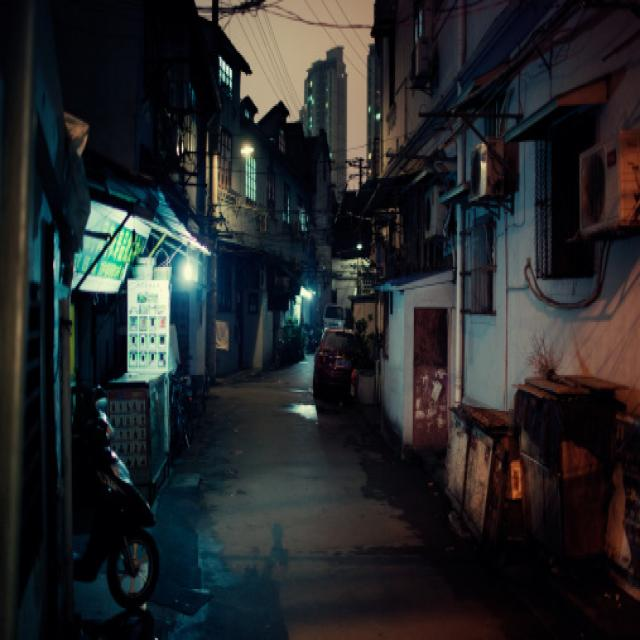Motorbike: (46, 378, 177, 638)
car: (307, 317, 385, 420), (310, 278, 355, 338)
